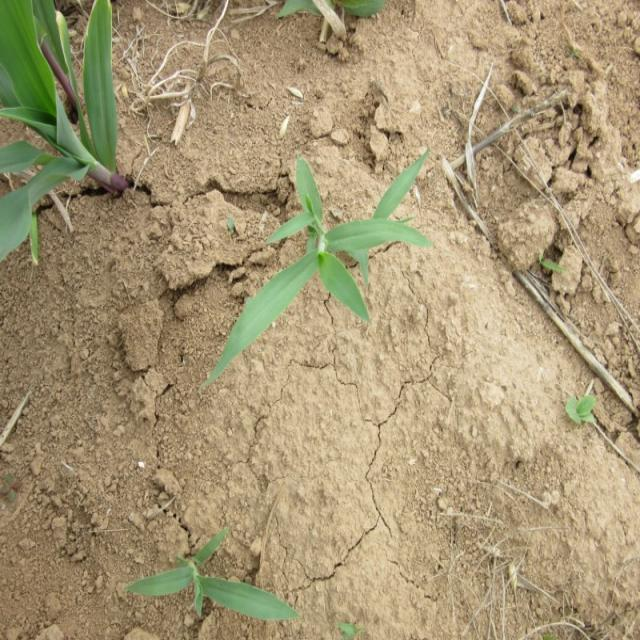bg: (207, 134, 431, 374)
